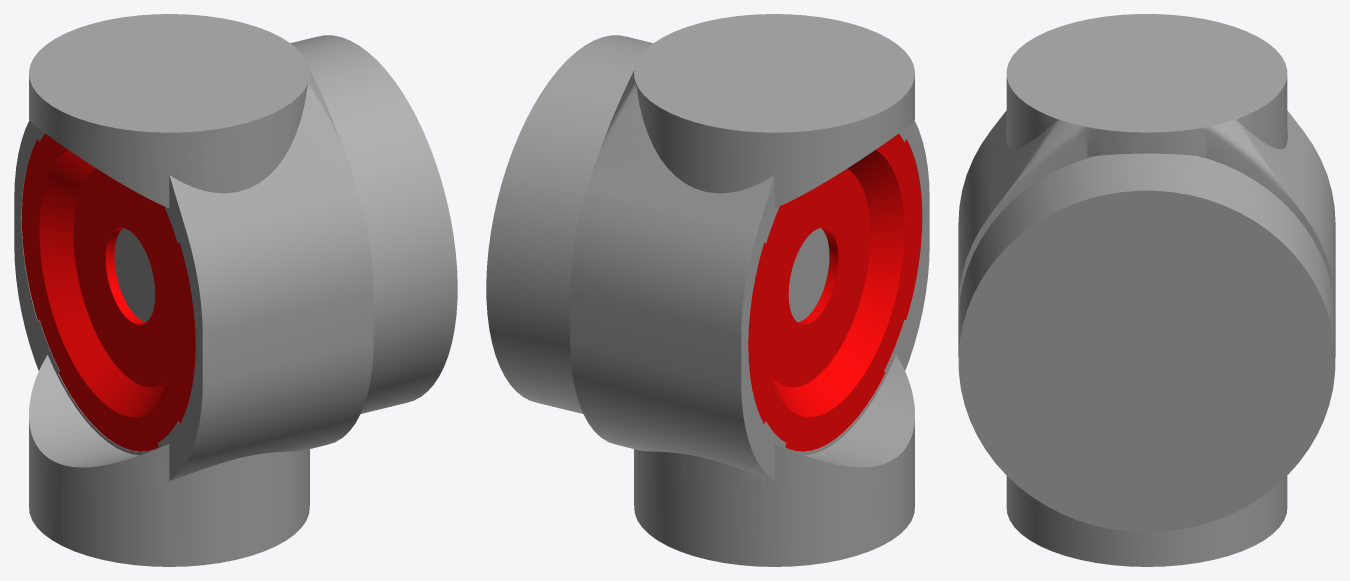
The model's file is hip.dae.
The picture shows the model from 3 angles, left to right: view 1: azimuth 30°, elevation 25°; view 2: azimuth 150°, elevation 25°; view 3: azimuth 270°, elevation 25°; orthographic projection.
Bounding box in the file's own units: 0.1025 × 0.106 × 0.1347.
